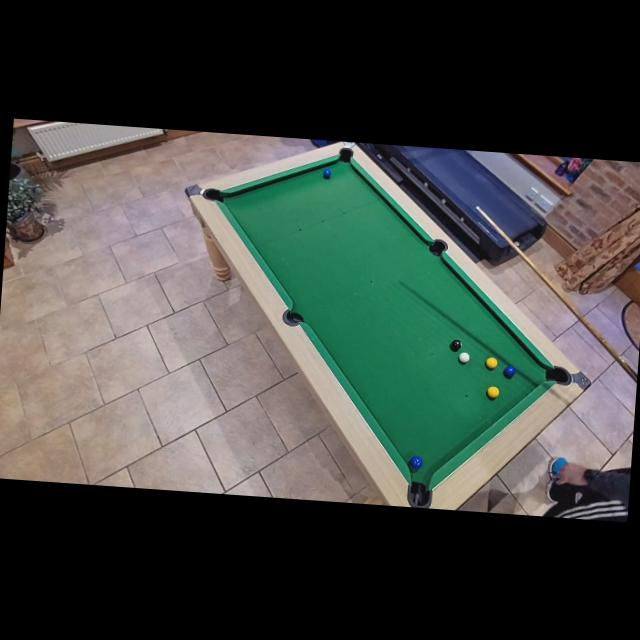Ball: (408, 455, 423, 469), (502, 365, 516, 378), (448, 339, 462, 352), (485, 356, 498, 369), (486, 385, 500, 397), (458, 352, 470, 362), (322, 168, 332, 178)
